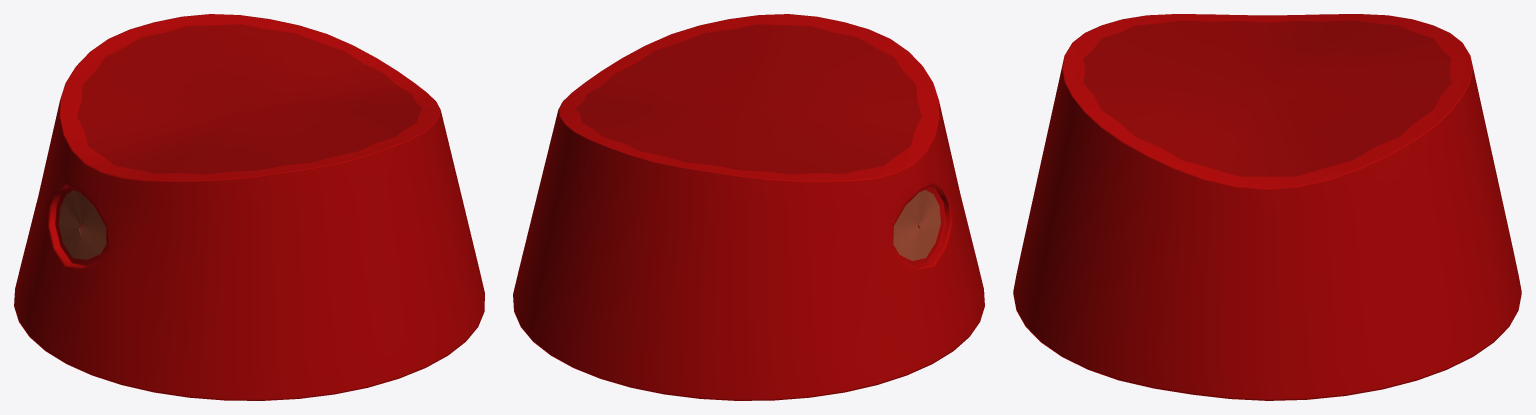
Rendered from Dose_Spray.fbx.
3 views of the same model, side by side, from view 1: azimuth 30°, elevation 25°; view 2: azimuth 150°, elevation 25°; view 3: azimuth 270°, elevation 25° (orthographic). The views are drawn at different scales.
Parts seen in each view (by area): view 1: pCylinder2; view 2: pCylinder2; view 3: pCylinder2.
Part boxes in pixels (x1,y1,x2,y2): pCylinder2: [14, 14, 484, 400]; pCylinder2: [513, 14, 984, 400]; pCylinder2: [1013, 14, 1521, 400].
Bounding box in the file's own units: 2.03 × 0.9975 × 2.03.
